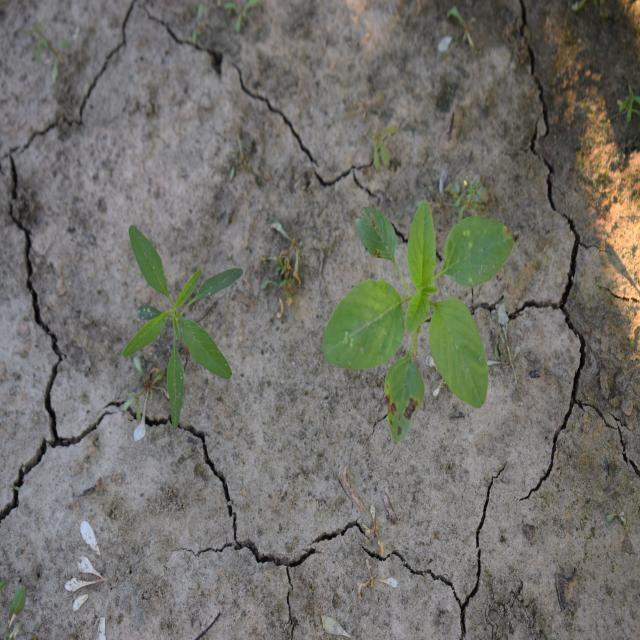PalmerAmaranth: (321, 196, 515, 444)
Waterhemp: (122, 223, 244, 432)
